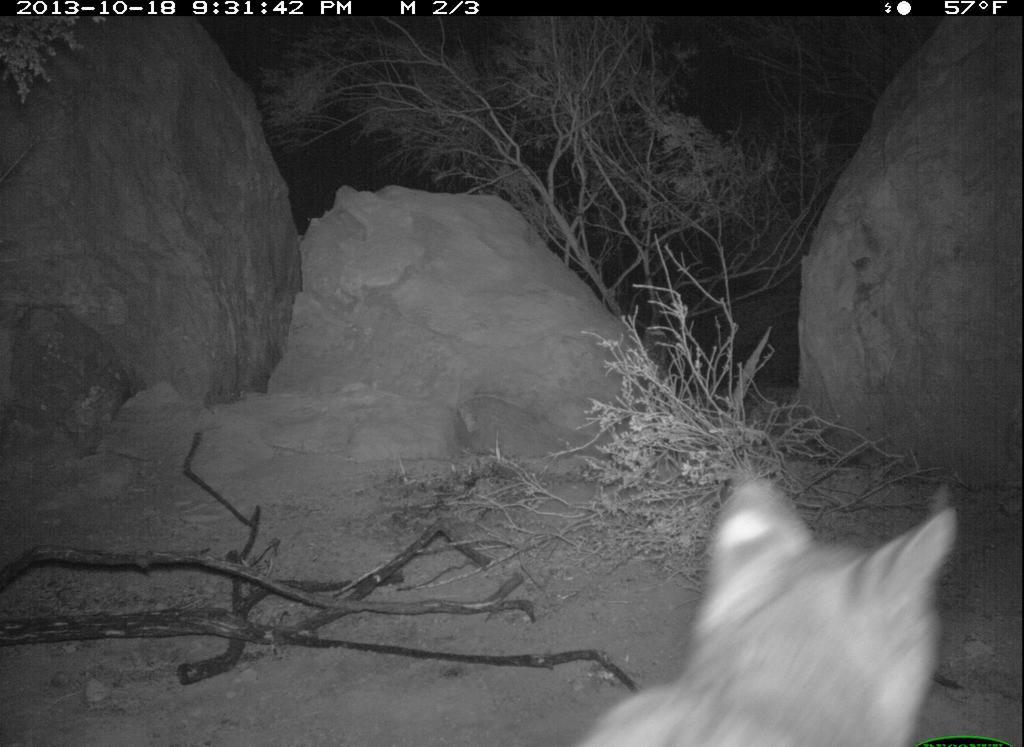bobcat: (557, 464, 989, 745)
